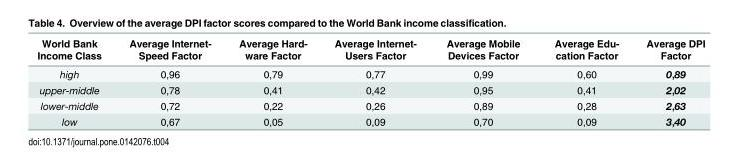table: (36, 36, 704, 127)
table column: (114, 36, 224, 127), (320, 36, 430, 127), (430, 36, 536, 127), (224, 36, 320, 127), (536, 36, 631, 127), (36, 36, 114, 127), (631, 36, 704, 127)
table column header: (36, 36, 704, 64)
table row: (36, 36, 704, 64), (36, 64, 704, 81), (36, 81, 704, 97), (36, 97, 704, 113), (36, 113, 704, 127)
